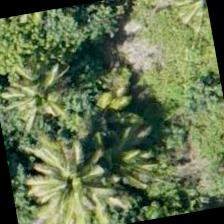Kelapa_Sawit: (0, 39, 91, 144), (16, 136, 122, 223)
